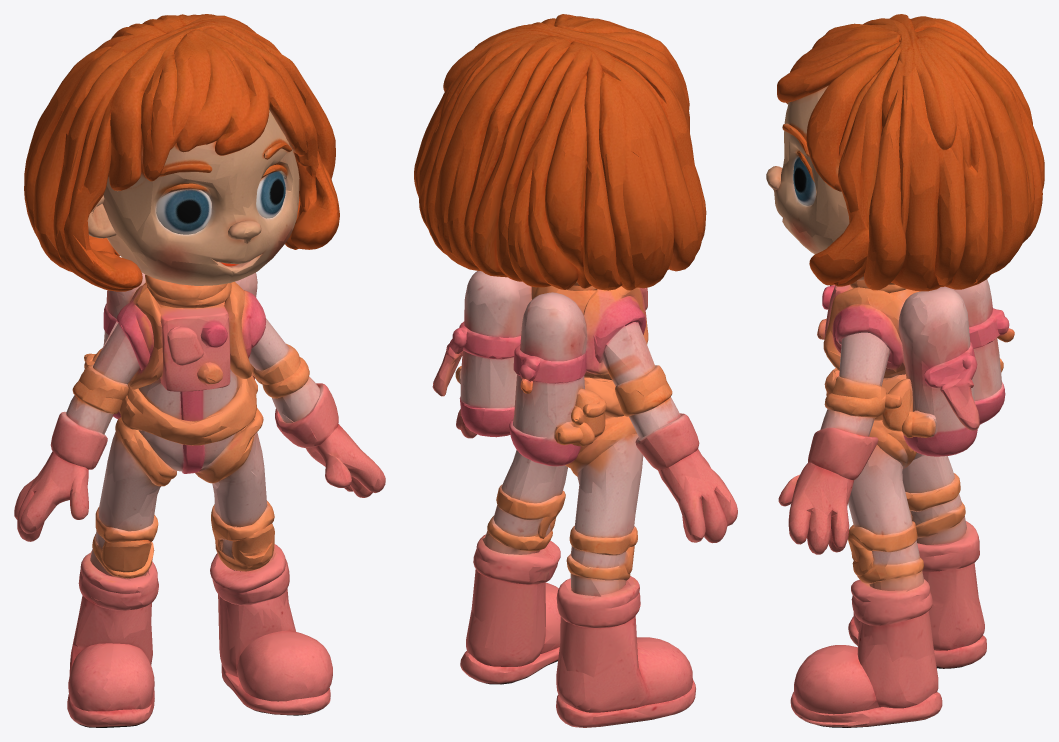
File: A1-clay-suit_remesh30k.glb
3 views of the same model, side by side, from view 1: azimuth 30°, elevation 25°; view 2: azimuth 150°, elevation 25°; view 3: azimuth 270°, elevation 25° (orthographic). The views are drawn at different scales.
Parts seen in each view (by area): view 1: output_unwrapped; view 2: output_unwrapped; view 3: output_unwrapped.
Part boxes in pixels (x1,y1,x2,y2): output_unwrapped: (14,14,385,727); output_unwrapped: (414,14,737,727); output_unwrapped: (766,14,1044,727).
Size of the model in its own units: 0.9408 by 1.9 by 0.7404.
Materials: 1 (1 with a texture image).
